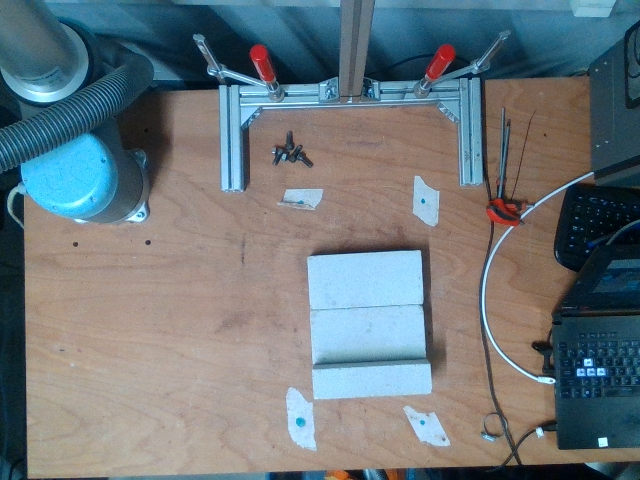brick-side: (310, 362, 433, 402)
